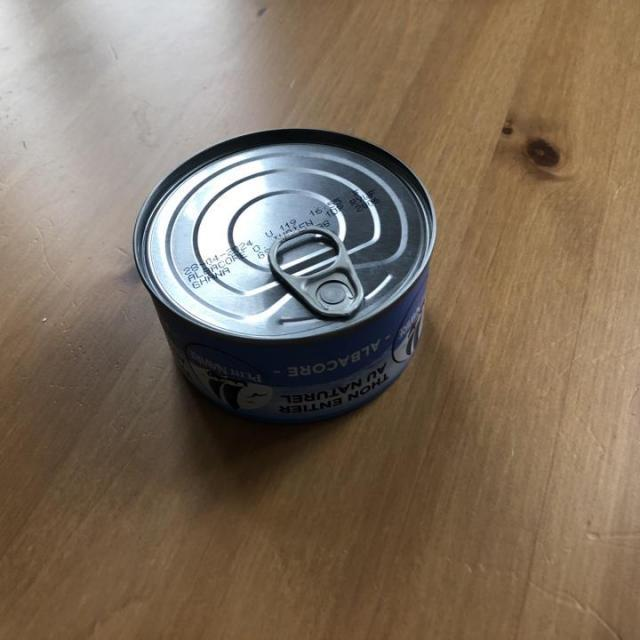recyclable: (126, 117, 446, 428)
